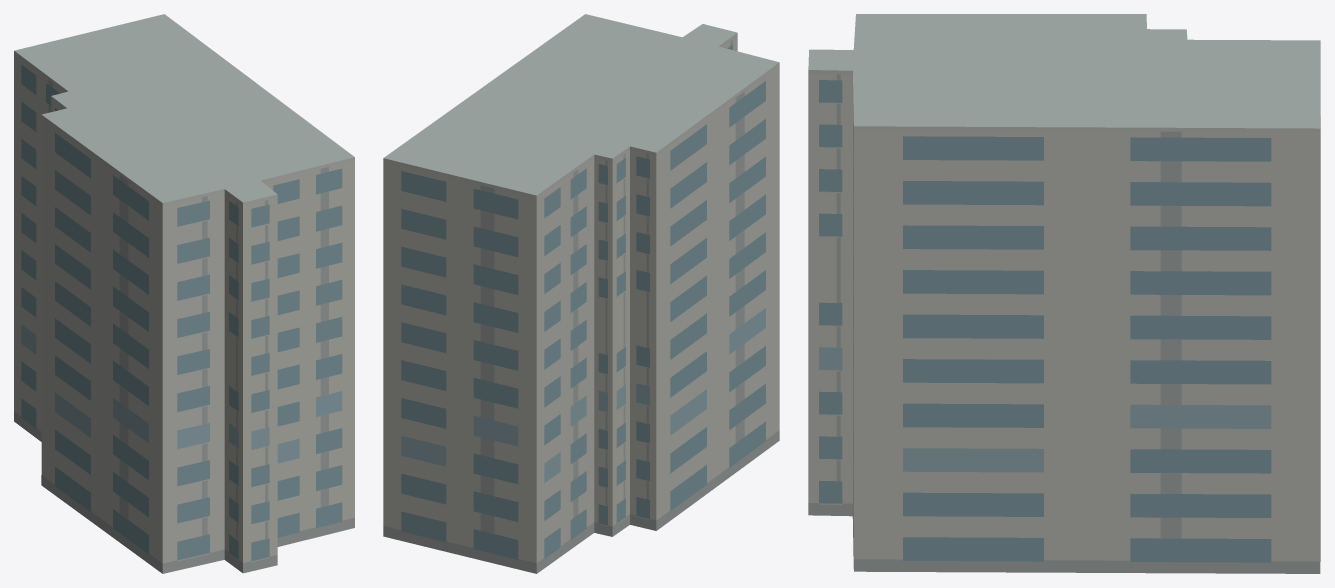
File: survey-upis-32744790.glb
3 views of the same model, side by side, from view 1: azimuth 30°, elevation 25°; view 2: azimuth 150°, elevation 25°; view 3: azimuth 270°, elevation 25° (orthographic). The views are drawn at different scales.
Visible parts, largest first — view 1: survey-upis-32744790.tmp; view 2: survey-upis-32744790.tmp; view 3: survey-upis-32744790.tmp.
Boxes of the visible parts, bbox=[...] form: survey-upis-32744790.tmp: bbox=[14, 14, 354, 573]; survey-upis-32744790.tmp: bbox=[383, 14, 779, 573]; survey-upis-32744790.tmp: bbox=[808, 14, 1320, 573].
Size of the model in its own units: 15.5 by 28.1 by 29.3.
